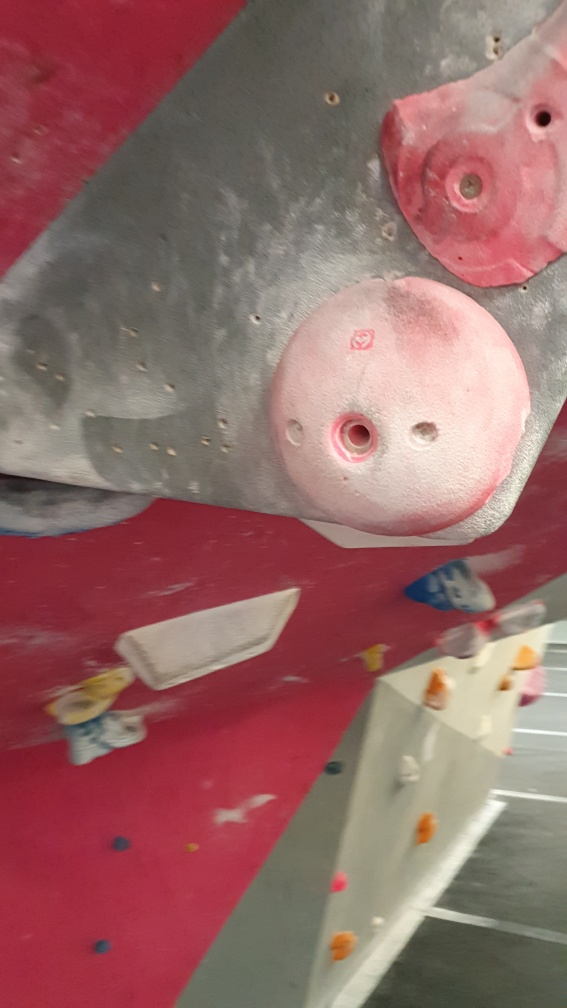Jug: (400, 555, 501, 613)
Pinch: (113, 584, 301, 693)
Sloper: (266, 270, 534, 536)
